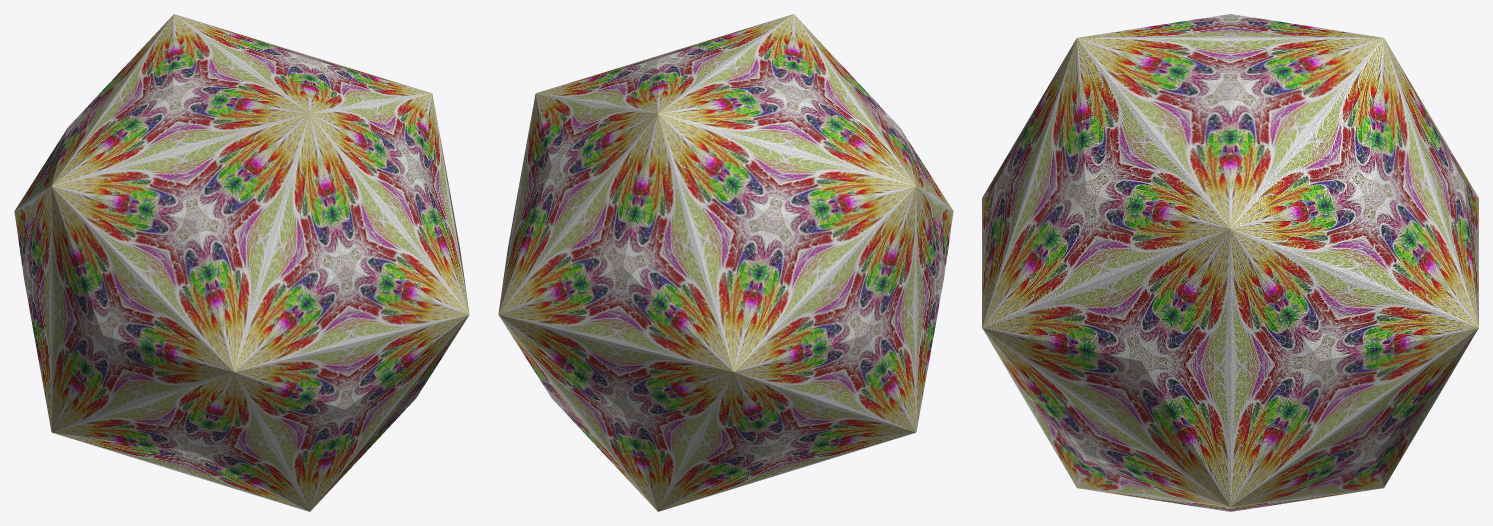
The model's file is TriakisIcosahedron7.obj.
The picture shows the model from 3 angles, left to right: view 1: azimuth 30°, elevation 25°; view 2: azimuth 150°, elevation 25°; view 3: azimuth 270°, elevation 25°; orthographic projection. The views are drawn at different scales.
Bounding box in the file's own units: 5.85 × 5.85 × 5.85.
Materials: 1 (1 with a texture image).
